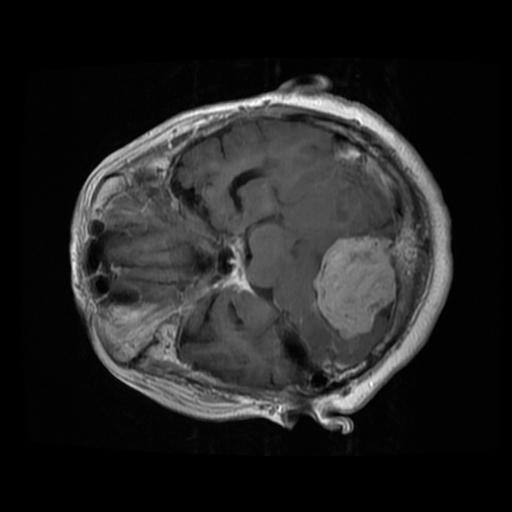meningioma: (312, 234, 397, 336)
